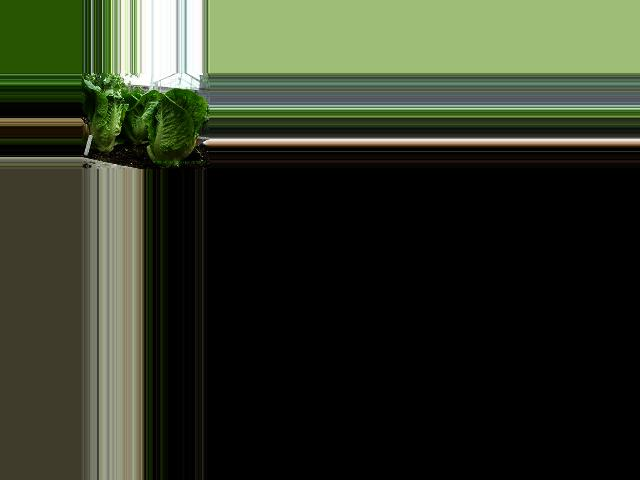lettuce: (86, 81, 129, 161)
